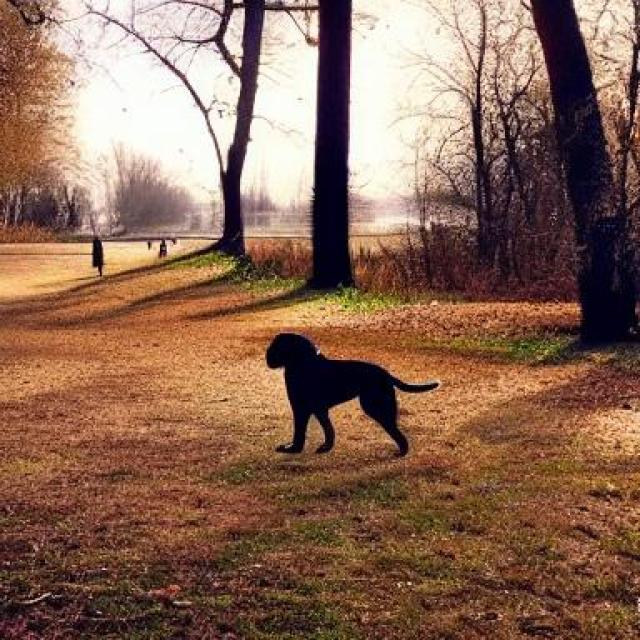Dog: (265, 332, 440, 458)
